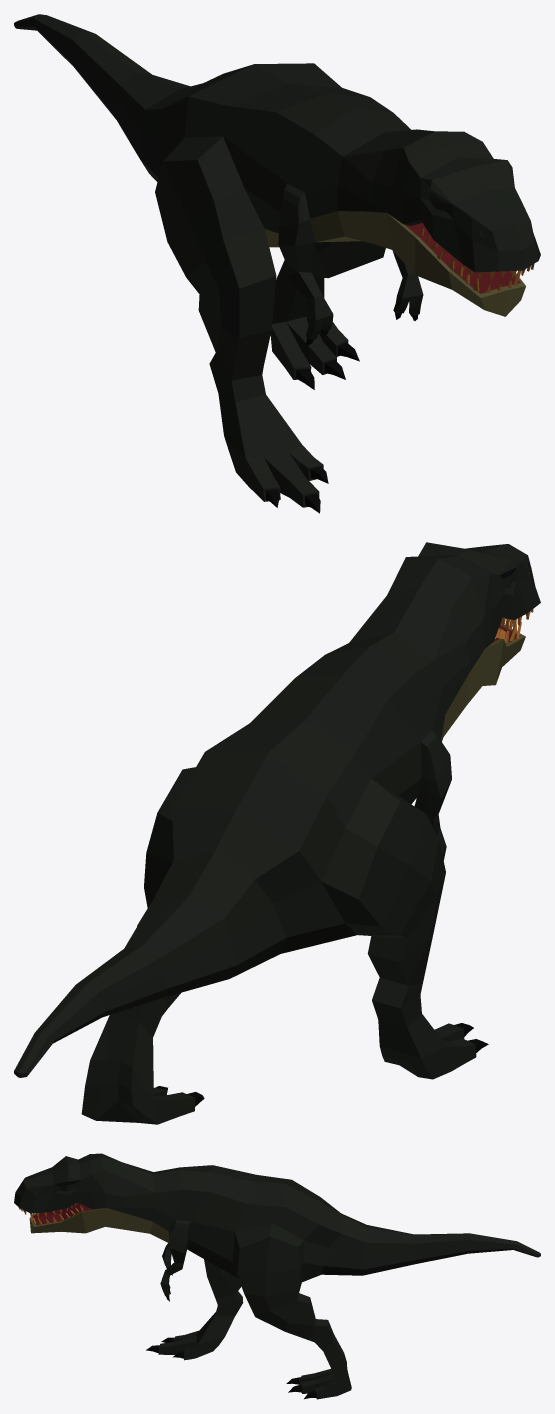
The model's file is Trex_000018.obj.
3 renders of one model, top to bottom at view 1: azimuth 30°, elevation 25°; view 2: azimuth 150°, elevation 25°; view 3: azimuth 270°, elevation 25°, orthographic. The views are drawn at different scales.
Visible parts, largest first — view 1: Trex_Cylinder; view 2: Trex_Cylinder; view 3: Trex_Cylinder.
Part boxes in pixels (x1,y1,x2,y2): Trex_Cylinder: (14, 14, 540, 513); Trex_Cylinder: (14, 542, 540, 1124); Trex_Cylinder: (14, 1153, 540, 1399).
Bounding box in the file's own units: 8.24 × 13.99 × 31.15.
